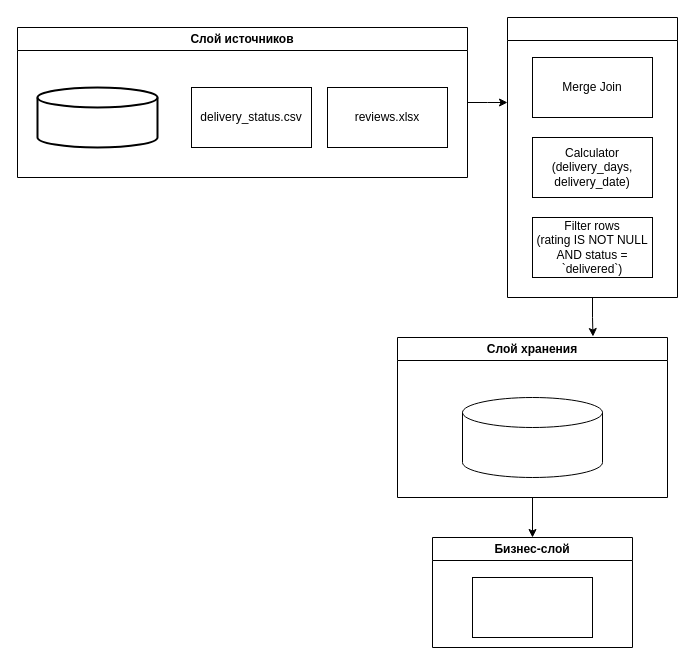
This 695x665 diagram has some shape labels left out. Each missing label, with the box of its shape:
MySQL:mgpu_ico_etl_05: (462, 396, 602, 478)
Pentaho DI: (506, 16, 678, 298)
PostgreSQL: orders: (36, 86, 158, 148)
Представление service_quality_report: (472, 576, 592, 638)
